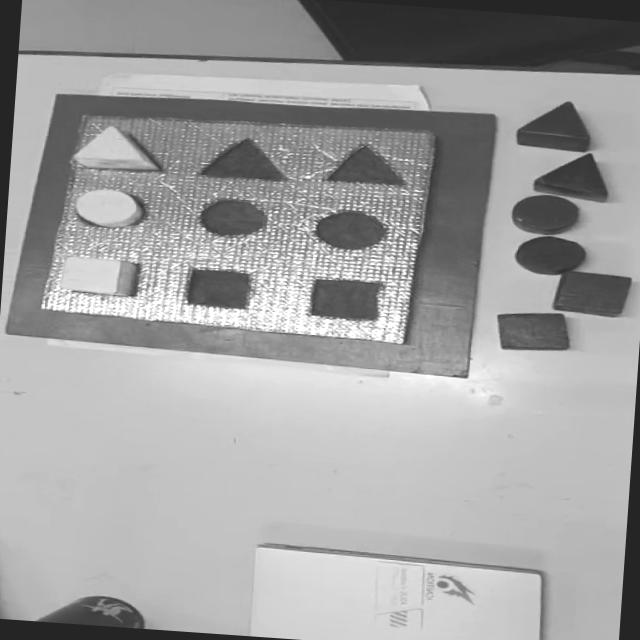bcircle: (514, 233, 586, 277)
bcube: (494, 308, 572, 354)
btriangle: (532, 148, 611, 202)
mtcircle: (312, 208, 388, 252), (196, 196, 268, 239)
mtcube: (308, 276, 382, 321), (183, 266, 253, 310)
mttriangle: (196, 134, 290, 182), (324, 142, 407, 188)
rcircle: (510, 192, 581, 236)
rcube: (551, 269, 632, 318)
rtriangle: (516, 98, 592, 152)
wb: (35, 104, 438, 346)
ycircle: (70, 184, 146, 230)
ycube: (55, 254, 138, 298)
ytriangle: (69, 122, 162, 174)
